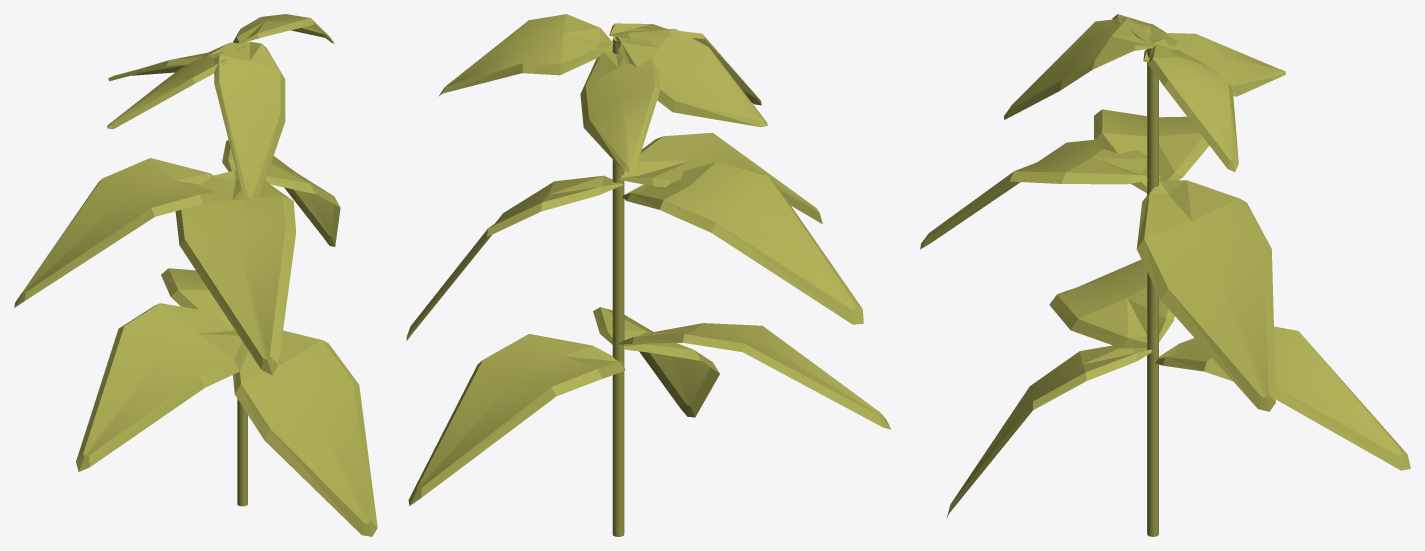
The model's file is SM_plant_a_04.fbx.
3 renders of one model, left to right at view 1: azimuth 30°, elevation 25°; view 2: azimuth 150°, elevation 25°; view 3: azimuth 270°, elevation 25°, orthographic. The views are drawn at different scales.
Parts seen in each view (by area): view 1: plant_a_04; view 2: plant_a_04; view 3: plant_a_04.
Boxes of the visible parts, x1=… form: plant_a_04: x1=14, y1=14, x2=377, y2=536; plant_a_04: x1=406, y1=14, x2=890, y2=536; plant_a_04: x1=920, y1=14, x2=1410, y2=536.
Bounding box in the file's own units: 57.66 × 70.01 × 62.12.
